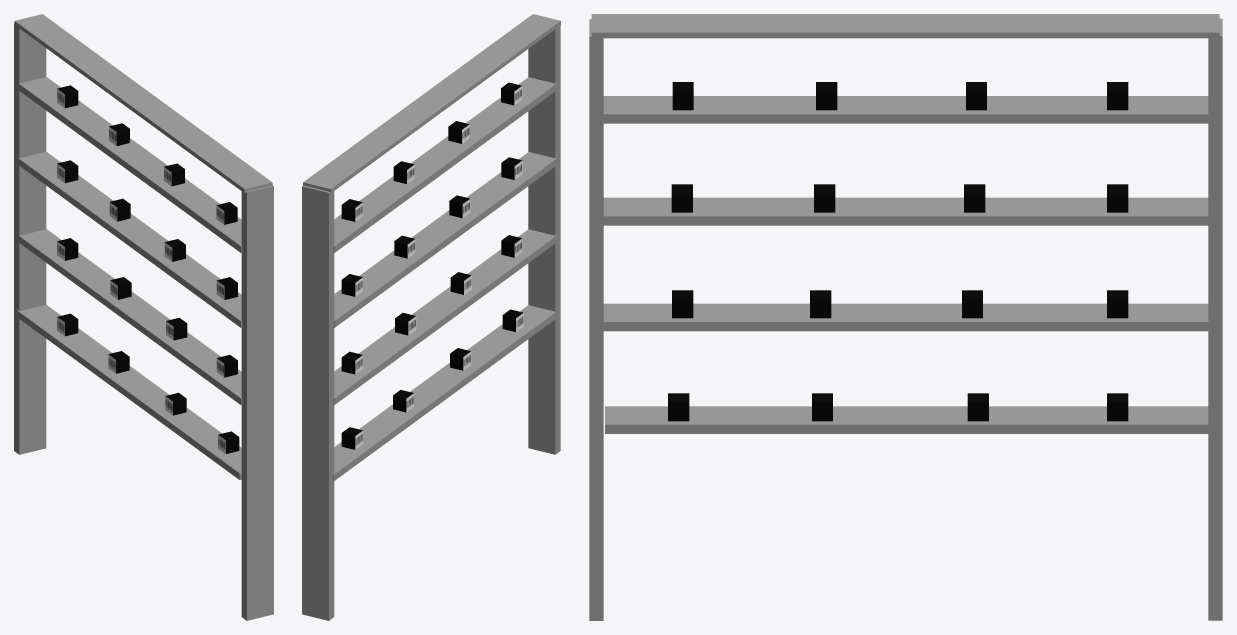
File: estantedef.obj
3 views of the same model, side by side, from view 1: azimuth 30°, elevation 25°; view 2: azimuth 150°, elevation 25°; view 3: azimuth 270°, elevation 25° (orthographic). The views are drawn at different scales.
Parts seen in each view (by area): view 1: Cube.006, Cube.016, Cube.015, Cube.011, Cube.013, Cube.014, Cube.012, C00, C33, D33, C11, C22 (+11 smaller); view 2: Cube.016, Cube.006, Cube.015, Cube.013, Cube.014, Cube.011, Cube.012, C33, D00, D22, B00, C00 (+11 smaller); view 3: Cube.012, Cube.013, Cube.014, Cube.015, Cube.011, Cube.006, Cube.016.
Part boxes in pixels (x1,y1,x2,y2): Cube.006: (241, 185, 273, 620); Cube.016: (14, 22, 46, 454); Cube.015: (14, 14, 272, 193); Cube.011: (17, 304, 241, 479); Cube.013: (18, 152, 242, 327); Cube.014: (18, 77, 242, 253); Cube.012: (18, 229, 242, 405); C00: (57, 160, 78, 183); C33: (216, 277, 237, 299); D33: (216, 202, 237, 224); C11: (109, 198, 130, 221); C22: (164, 239, 185, 261); Cube.016: (302, 185, 334, 620); Cube.006: (528, 25, 560, 454); Cube.015: (303, 14, 560, 193); Cube.013: (333, 152, 557, 327); Cube.014: (333, 77, 556, 252); Cube.011: (332, 305, 556, 481); Cube.012: (333, 229, 556, 405); C33: (501, 157, 522, 180); D00: (341, 199, 362, 221); D22: (448, 121, 469, 143); B00: (341, 351, 362, 374); C00: (341, 274, 362, 296); Cube.012: (601, 303, 1209, 331); Cube.013: (603, 197, 1209, 225); Cube.014: (603, 96, 1209, 123); Cube.015: (591, 14, 1219, 38); Cube.011: (605, 406, 1212, 433); Cube.006: (589, 19, 603, 620); Cube.016: (1208, 18, 1222, 620).
Bounding box in the file's own units: 0.2101 × 3.06 × 2.98.
